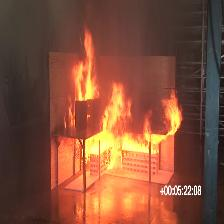fire: (65, 81, 183, 170), (73, 26, 99, 101)
